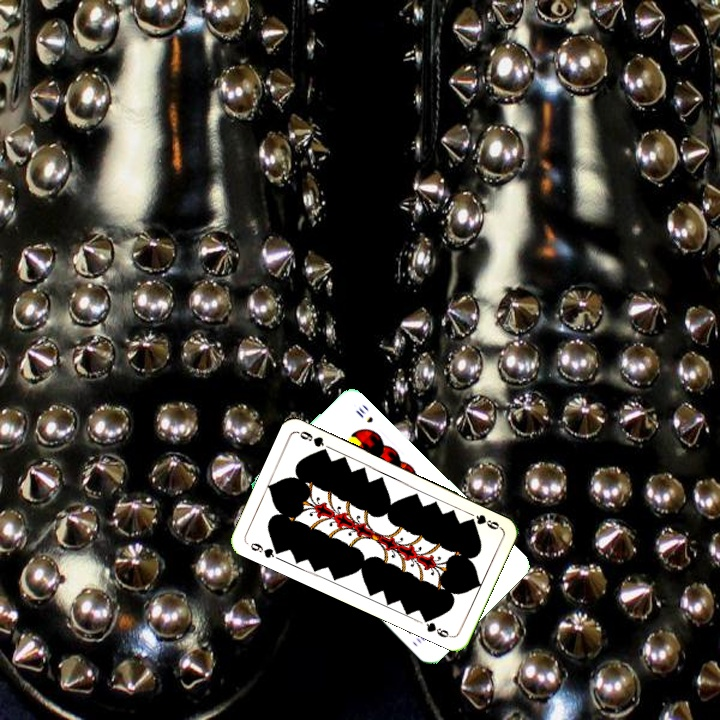G9: (465, 509, 503, 532), (246, 539, 285, 561)
